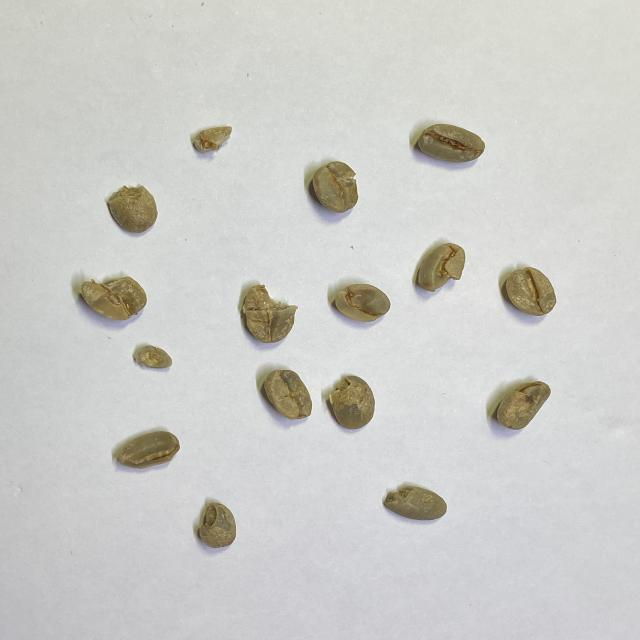bad: (242, 284, 298, 344), (79, 275, 148, 321), (496, 380, 552, 430), (328, 374, 377, 431), (104, 184, 159, 234), (116, 430, 182, 470), (311, 160, 360, 213), (417, 242, 467, 293), (382, 485, 448, 522), (335, 283, 391, 323), (195, 501, 238, 549), (192, 125, 234, 154), (134, 344, 173, 370)
good: (417, 122, 485, 162), (505, 267, 557, 316), (264, 368, 312, 419)
